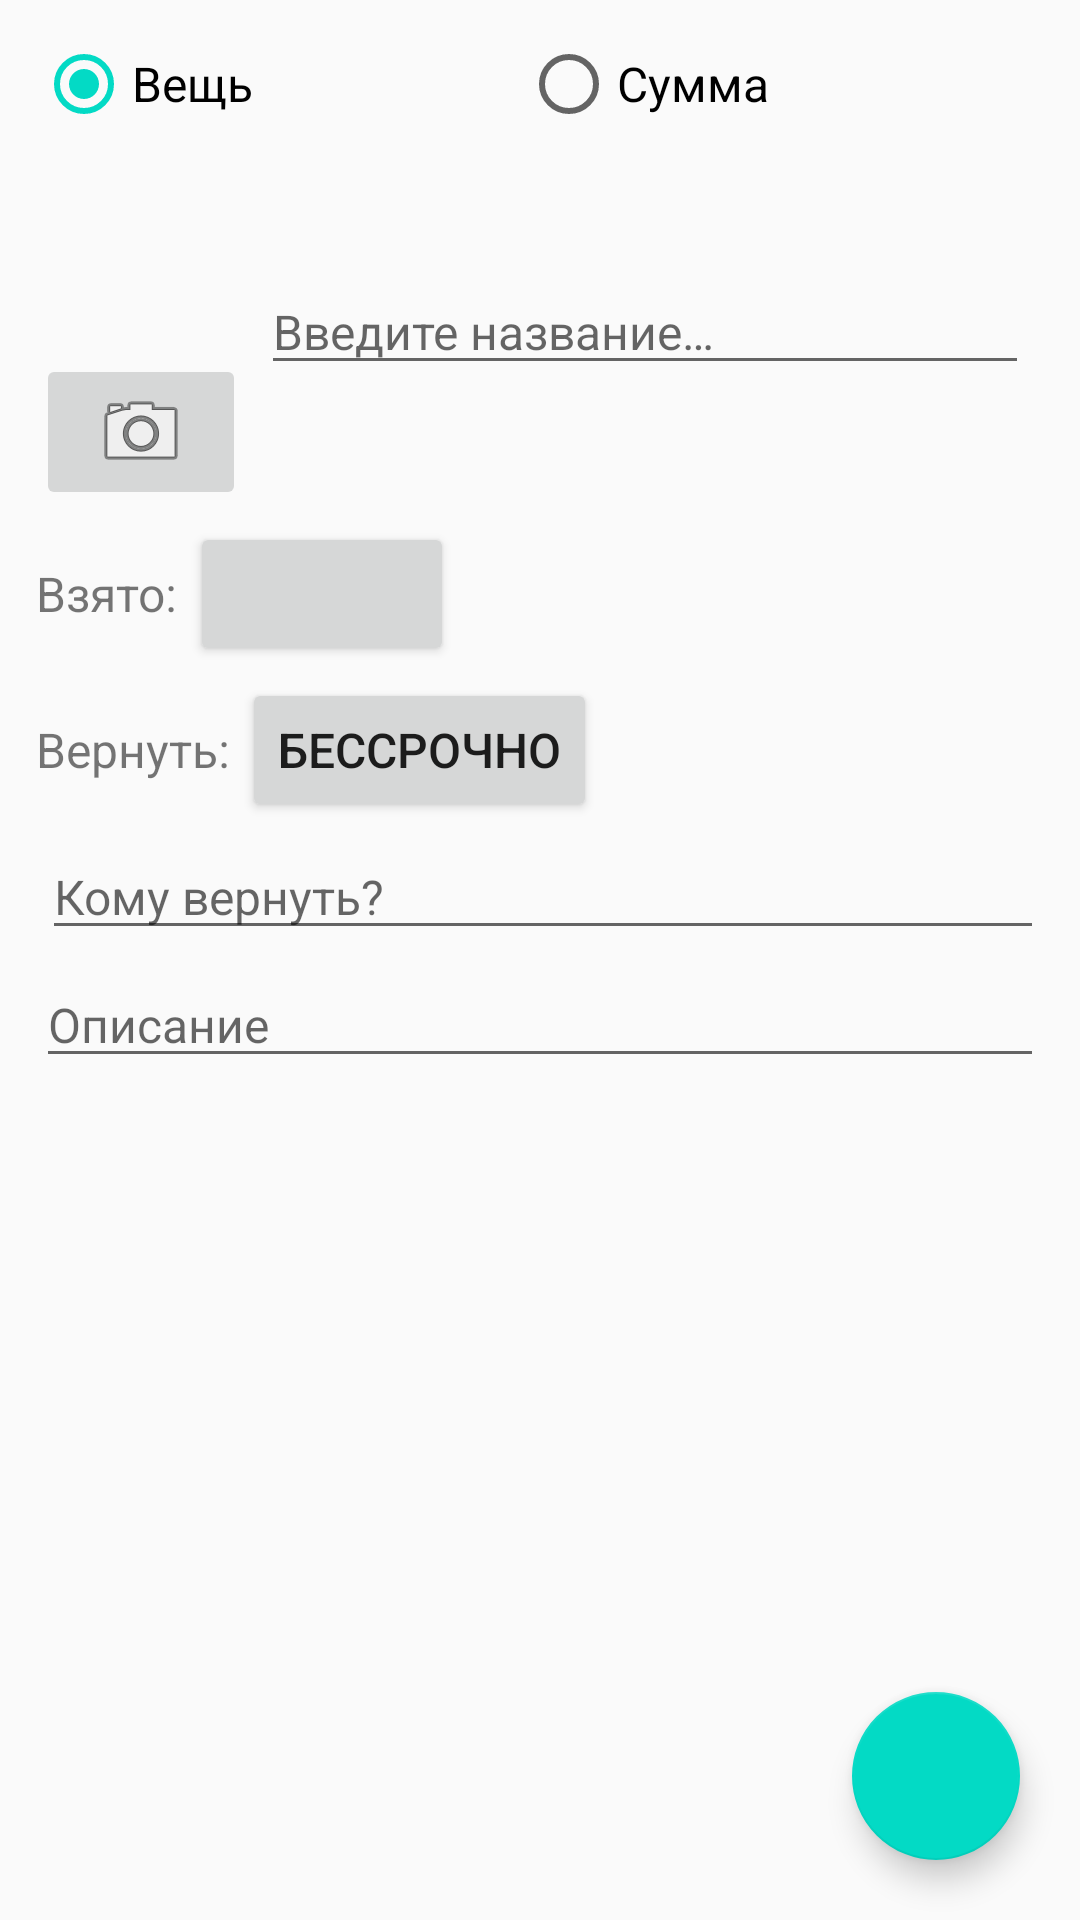

Screen size 1080 x 1920. Icon name, then its center in pixels as [x,y]:
Сделать/показать фото: [141,432]
